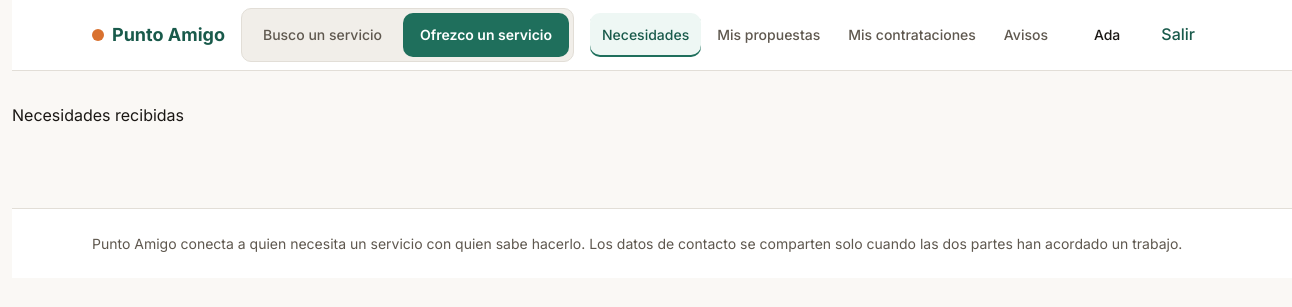
Test: como cambia la navegacion › una pantalla que el modo ya no nombra lleva a la de su nuevo modo
Expected: the text "Necesidades recibidas" is shown, [12,105,184,125]
Click the button "Busco un servicio" at (322, 35), box [246,13,399,57]
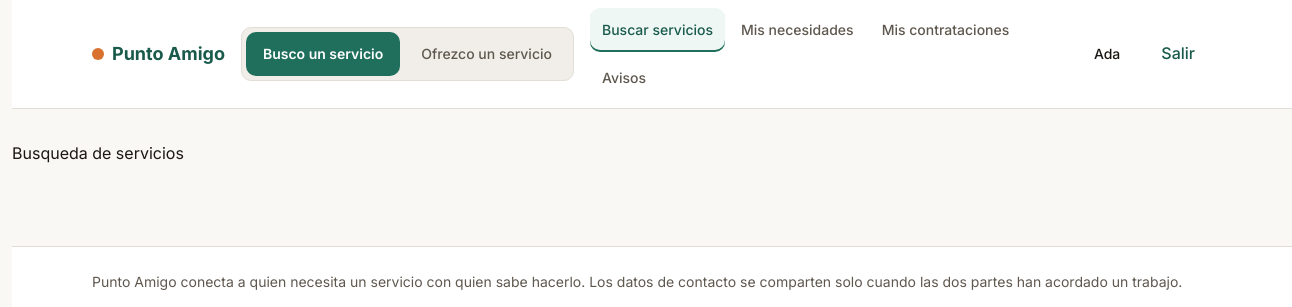
Expected: the text "Busqueda de servicios" is shown, [12,143,184,163]
